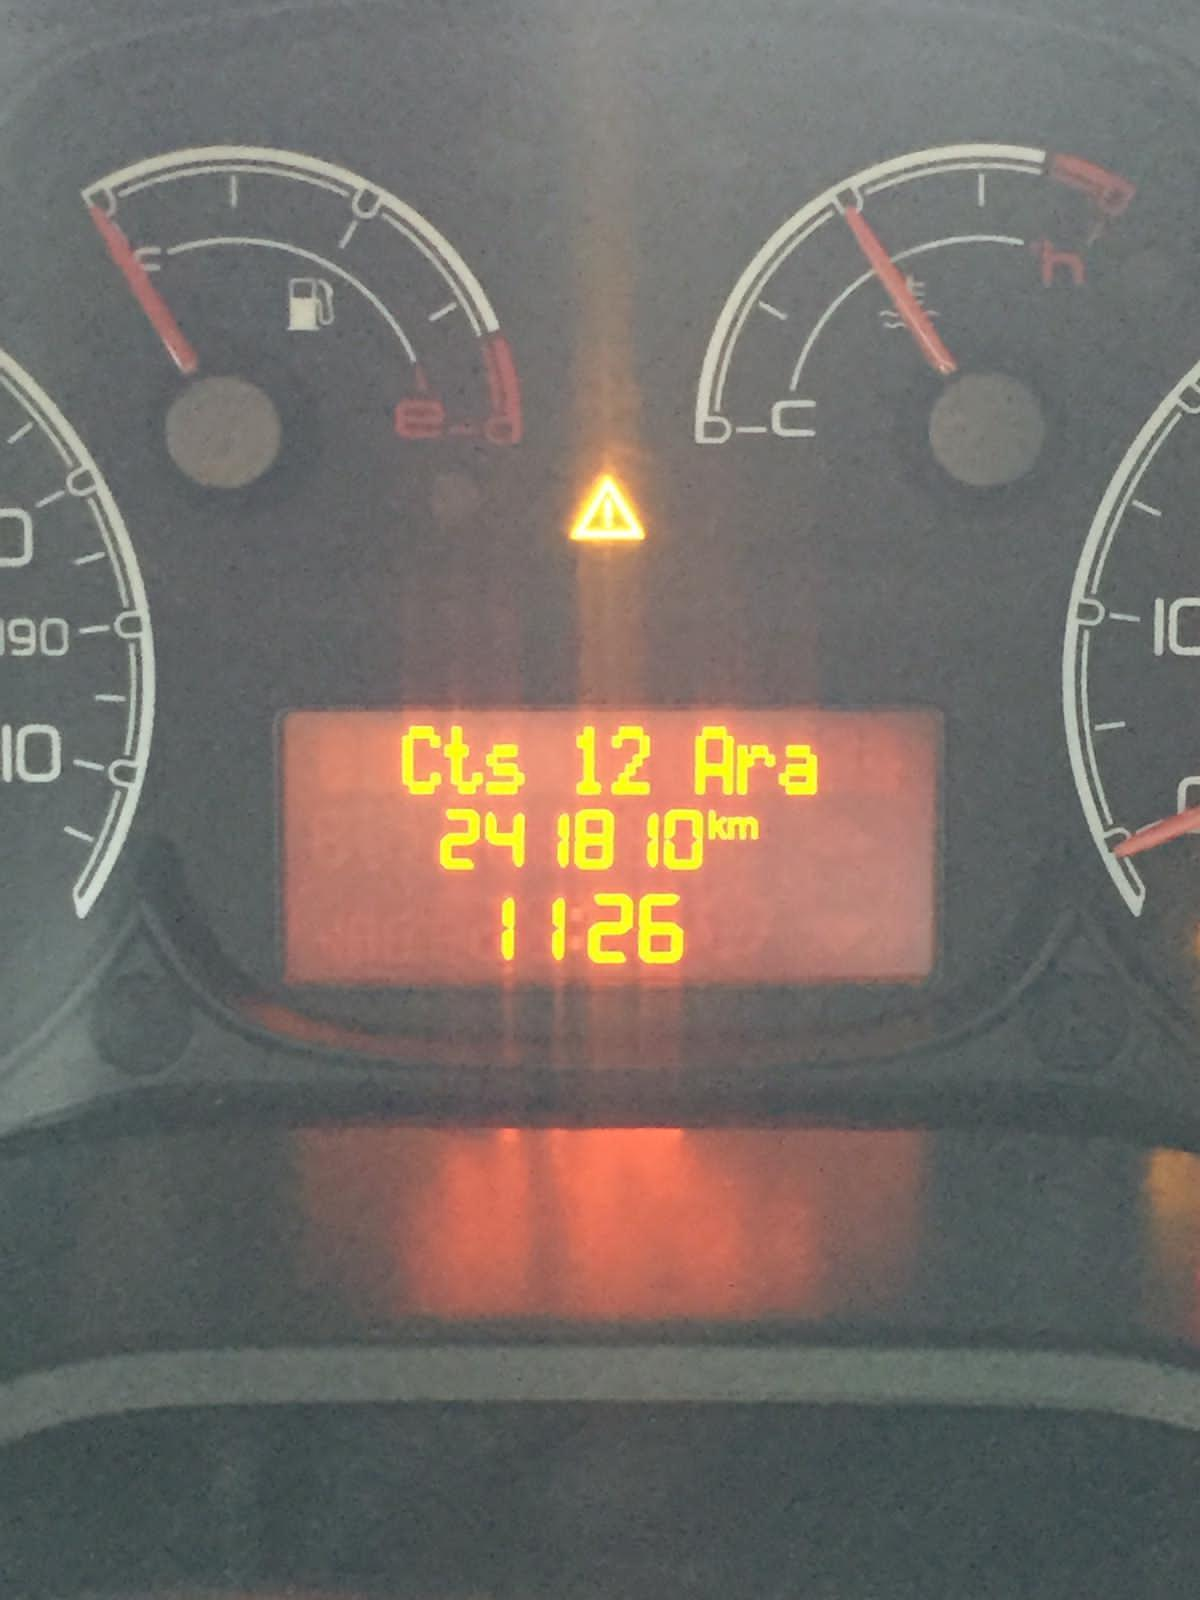0: (662, 805, 705, 873)
1: (568, 721, 605, 797), (493, 891, 521, 964), (545, 889, 568, 965), (550, 808, 571, 871), (639, 808, 661, 871)
2: (584, 889, 632, 968), (606, 722, 654, 799), (436, 805, 482, 873)
4: (482, 808, 528, 871)
6: (637, 889, 688, 968)
8: (572, 805, 616, 872)
X: (397, 721, 442, 799), (689, 722, 735, 799), (442, 721, 484, 797), (778, 740, 822, 800), (485, 740, 527, 799), (735, 742, 776, 797), (729, 813, 760, 842), (705, 806, 729, 843)
odometer: (263, 695, 957, 1002)
